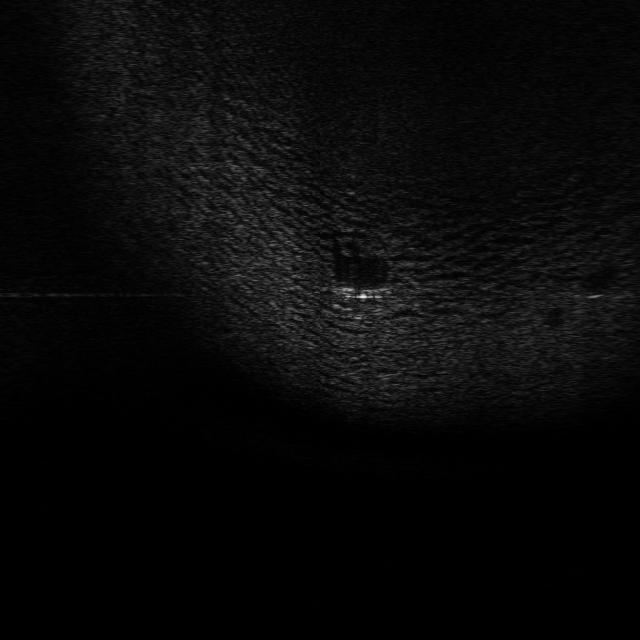plane: (334, 281, 392, 301)
